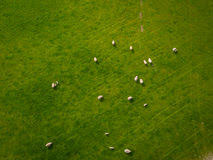sheep: (50, 81, 61, 89), (100, 130, 111, 137), (122, 148, 133, 155), (108, 146, 117, 153), (44, 142, 54, 148), (96, 95, 104, 102), (139, 76, 145, 85), (171, 46, 178, 53), (127, 46, 134, 53), (91, 56, 98, 63), (126, 96, 134, 102), (142, 59, 149, 65), (141, 101, 148, 107), (134, 76, 140, 82), (111, 41, 116, 48), (148, 57, 153, 63)
